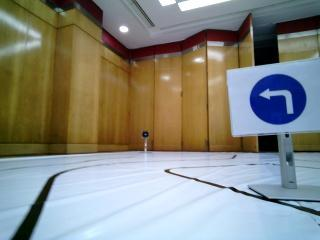left: (229, 74, 320, 128)
